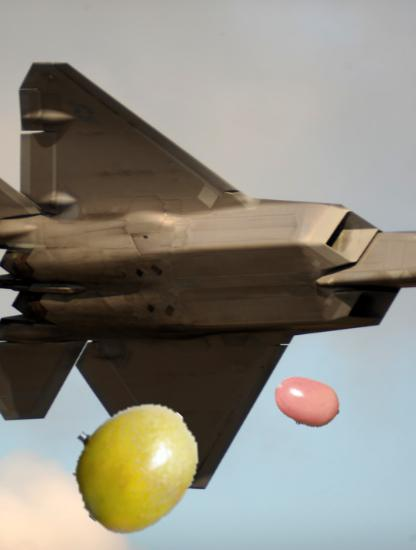Kaki: (272, 367, 343, 438)
Maracuja: (65, 396, 202, 533)
